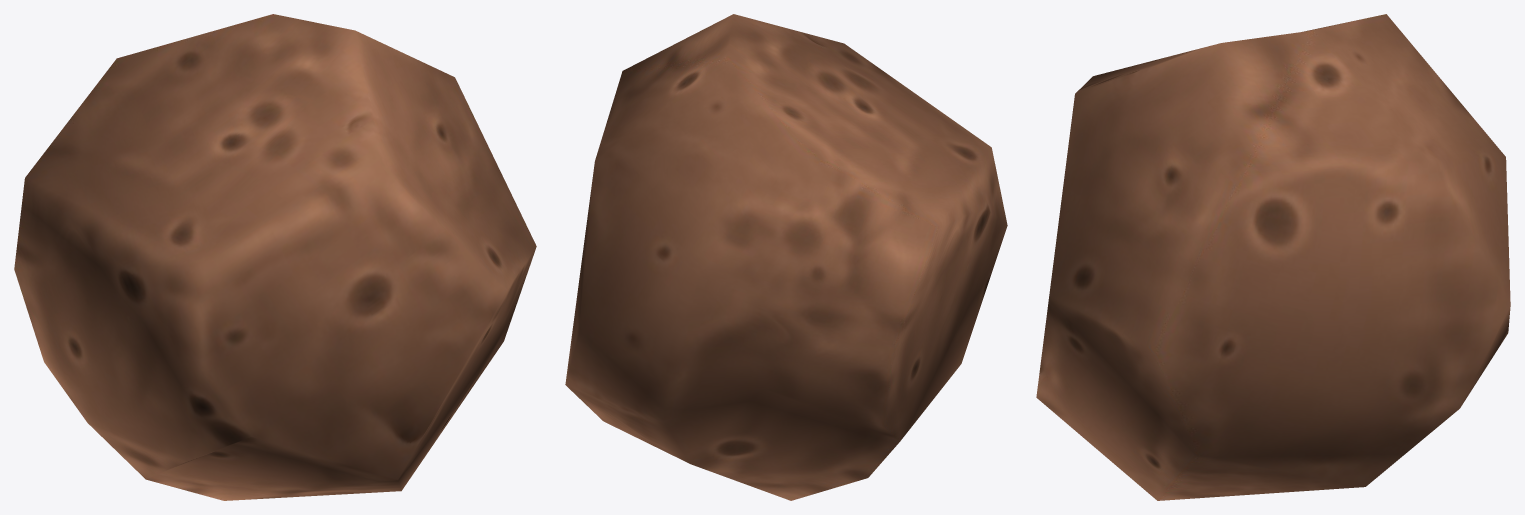
File: handrock.fbx
3 views of the same model, side by side, from view 1: azimuth 30°, elevation 25°; view 2: azimuth 150°, elevation 25°; view 3: azimuth 270°, elevation 25° (orthographic). The views are drawn at different scales.
Parts seen in each view (by area): view 1: Rock_LOD0; view 2: Rock_LOD0; view 3: Rock_LOD0.
Boxes of the visible parts, x1,y1,x2,y2 form: Rock_LOD0: (14,14,536,500); Rock_LOD0: (565,14,1007,500); Rock_LOD0: (1036,14,1510,500).
Size of what is drawn, in the model's own units: 184 by 196 by 175.
